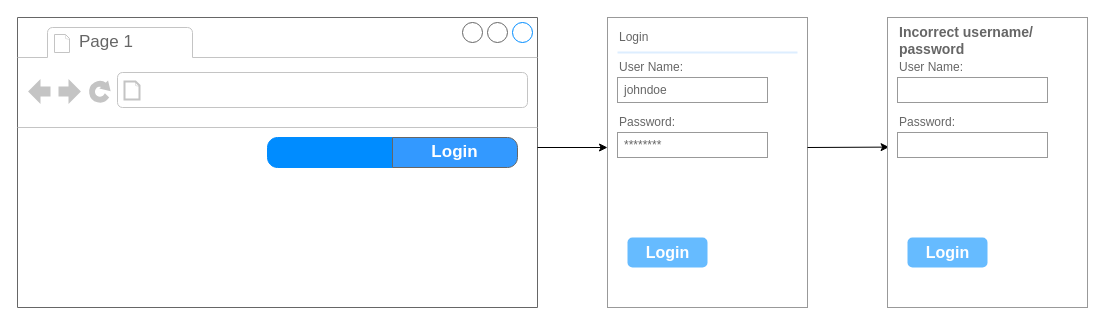
Image size: 1105x325. Some labels were removed from this diagram. Each missing label, with the box of its shape:
https://www.yourcatsanddogs.com: (146, 76, 398, 104)
Register: (266, 136, 392, 168)
